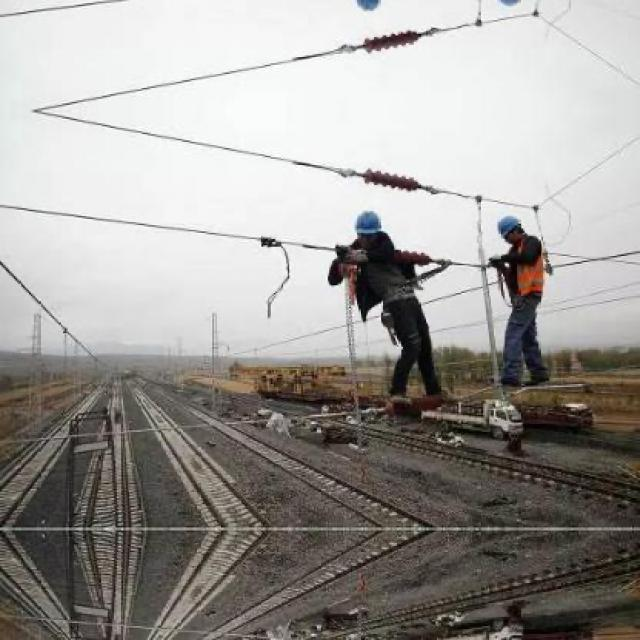helmet: (491, 210, 532, 251), (354, 205, 389, 248), (352, 0, 390, 19), (490, 0, 532, 14)
